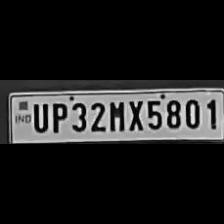0: (182, 96, 200, 130)
1: (203, 96, 219, 130)
2: (88, 99, 106, 133)
3: (68, 99, 86, 133)
5: (143, 96, 161, 130)
8: (164, 96, 182, 130)
M: (105, 97, 124, 132)
P: (48, 100, 68, 134)
U: (30, 100, 48, 134)
X: (124, 98, 144, 132)
